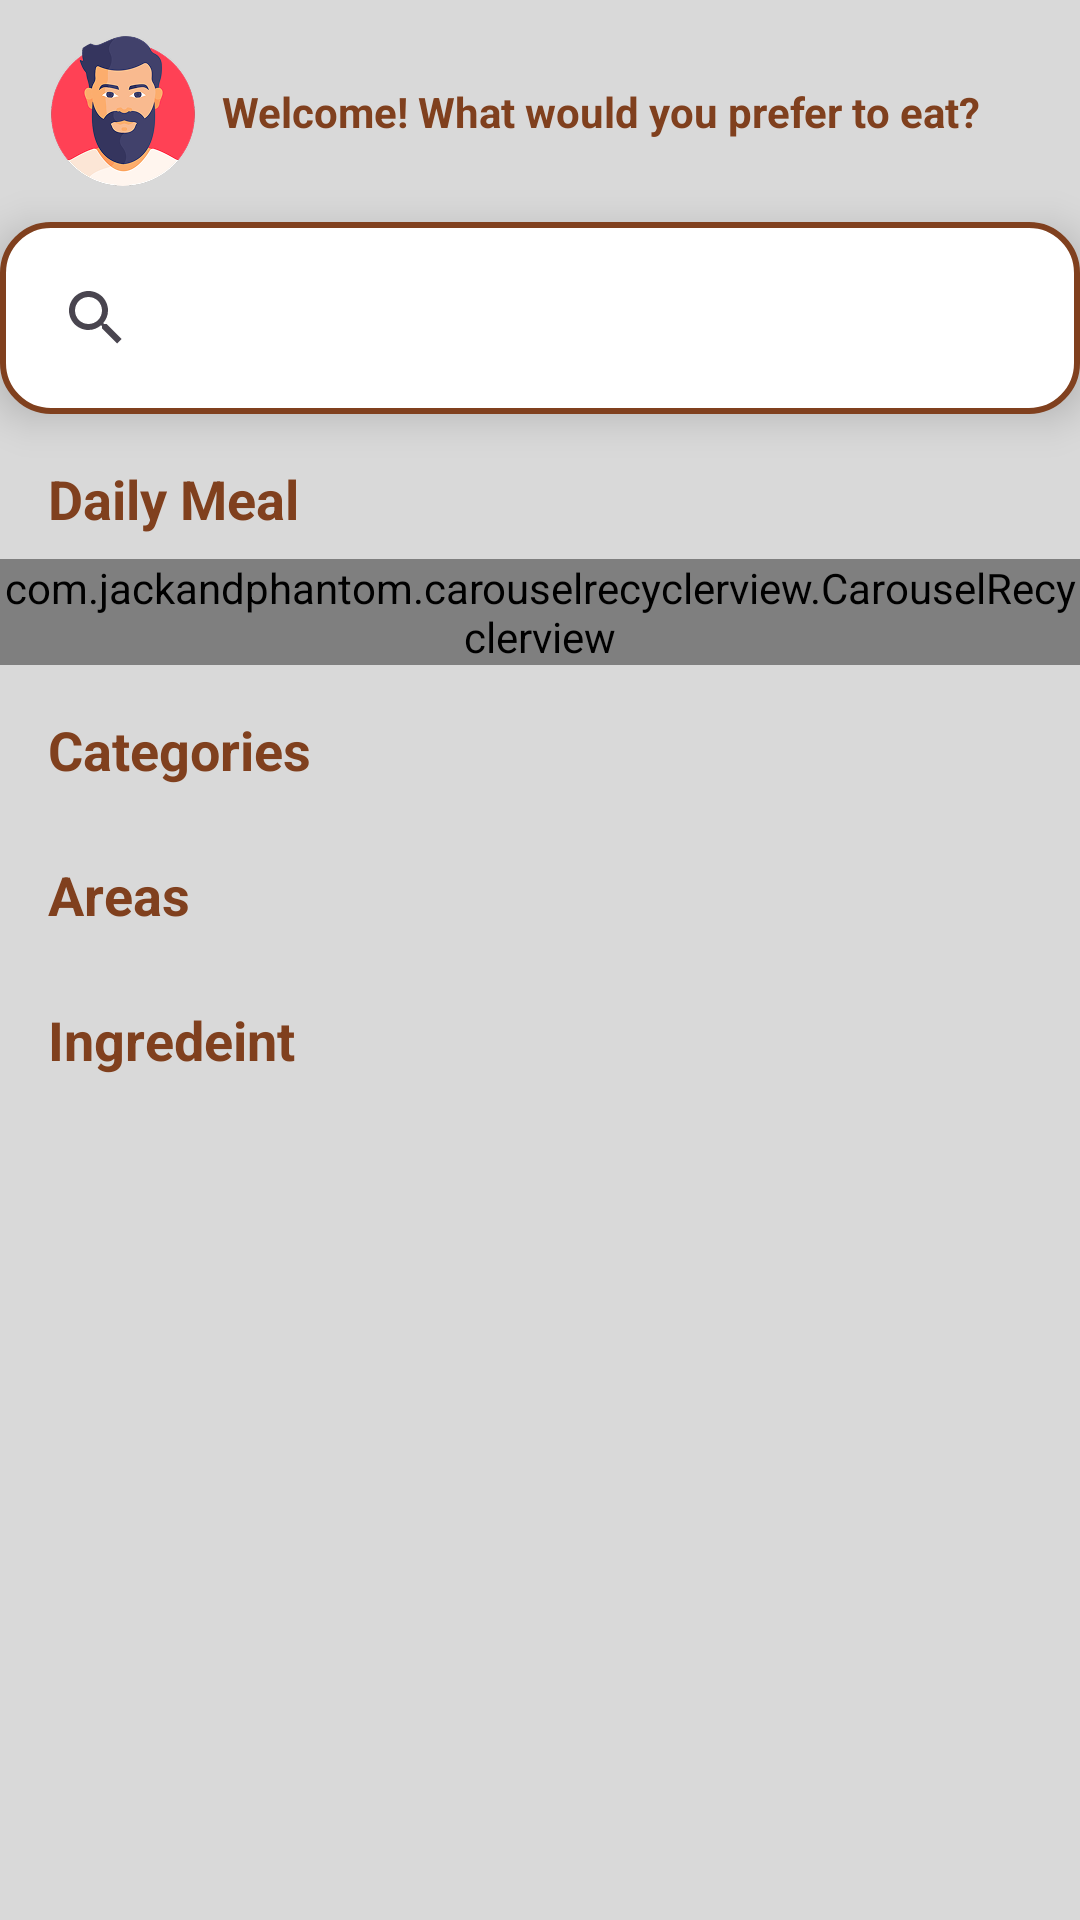

Icons on this 1080 x 1920 Android screen, each with its box as (x1, y1, x2, y2):
profile: (51, 36, 195, 186)
